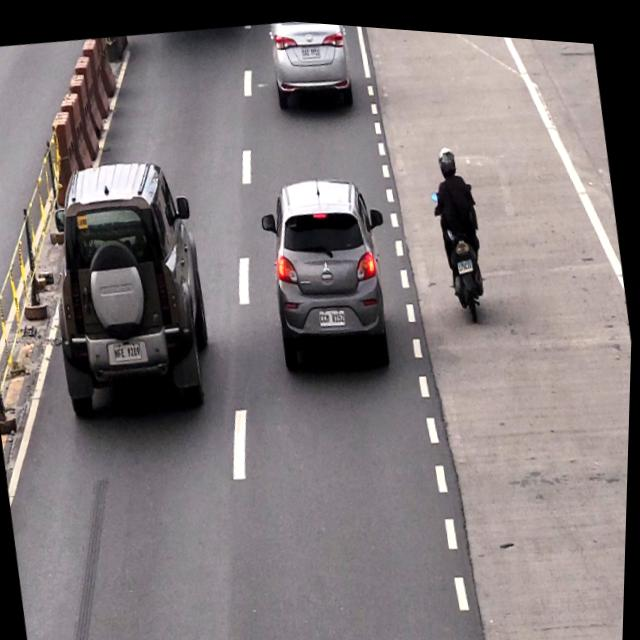Car: (36, 145, 227, 422), (260, 162, 401, 386), (266, 16, 358, 120)
License-Plate: (114, 335, 145, 362), (320, 303, 349, 325), (455, 245, 478, 272), (300, 40, 321, 57)
Motorcycle: (424, 135, 504, 326)
